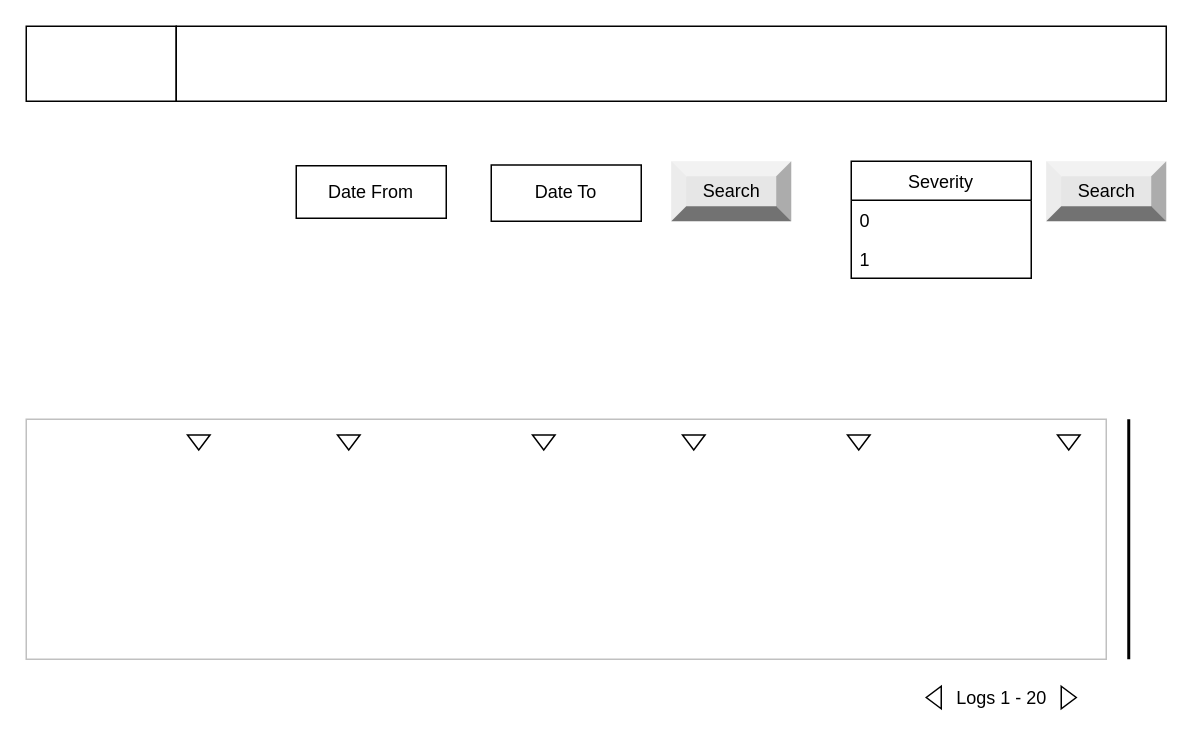
This 1193x738 diagram has some shape labels left out. Each missing label, with the centre of its shape:
"Cisco Logo" goes at [100,63].
"Syslog Tool" goes at [670,63].
"Timestamp DeviceId Device type SyslogId Severity log message" goes at [565,538].
